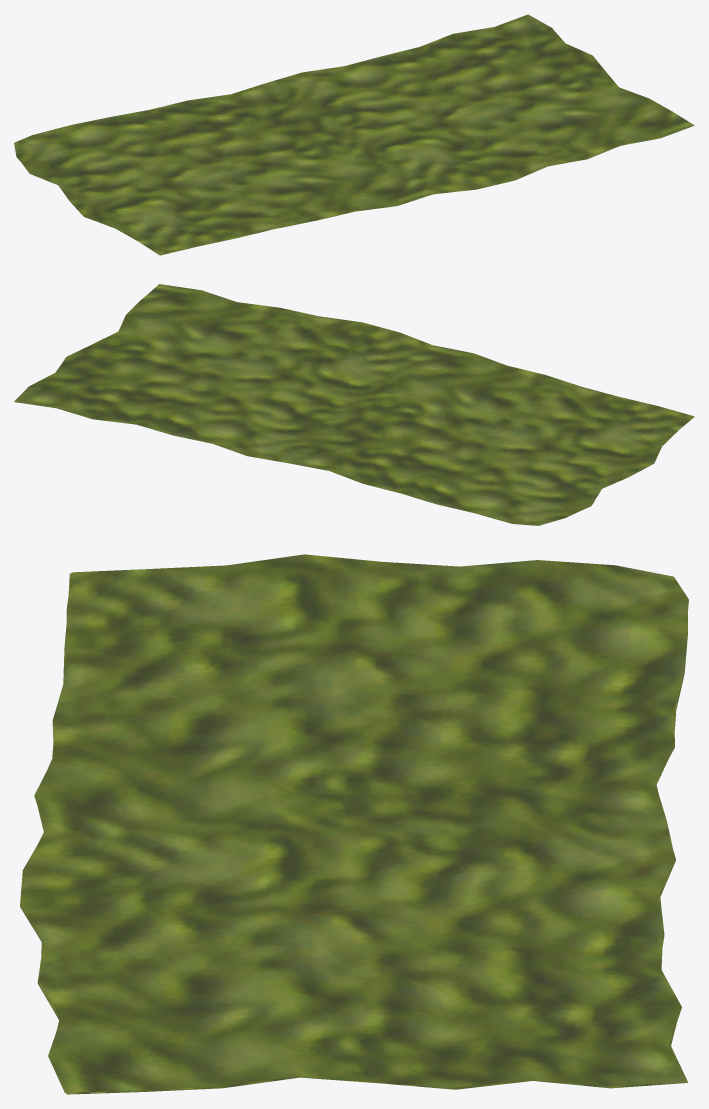
Rendered from MIRKWOOD_PLANE57.fbx.
3 views of the same model, one above another, from view 1: azimuth 30°, elevation 25°; view 2: azimuth 150°, elevation 25°; view 3: azimuth 270°, elevation 25° (orthographic). The views are drawn at different scales.
Visible parts, largest first — view 1: MIRKWOOD_PLANE57; view 2: MIRKWOOD_PLANE57; view 3: MIRKWOOD_PLANE57.
Boxes of the visible parts, left/top/right/bottom form: MIRKWOOD_PLANE57: left=14, top=14, right=694, bottom=255; MIRKWOOD_PLANE57: left=14, top=284, right=694, bottom=525; MIRKWOOD_PLANE57: left=20, top=554, right=688, bottom=1094.
Size of the model in its own units: 201300 by 849 by 105724.
2 materials, 2 textured.
